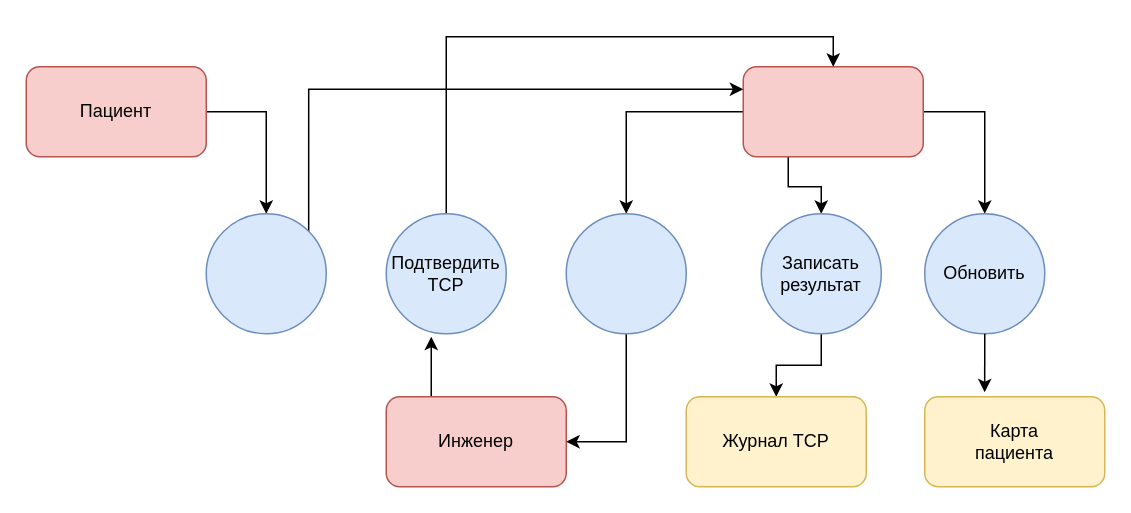
This 1131x513 diagram has some shape labels left out. The shapes that lost their labels are listed below. From the top down, each one's centre as x and y in pixels, then its label:
(832,111): Врач
(265,273): Передать анкету
(625,273): Запросить рекомендации
